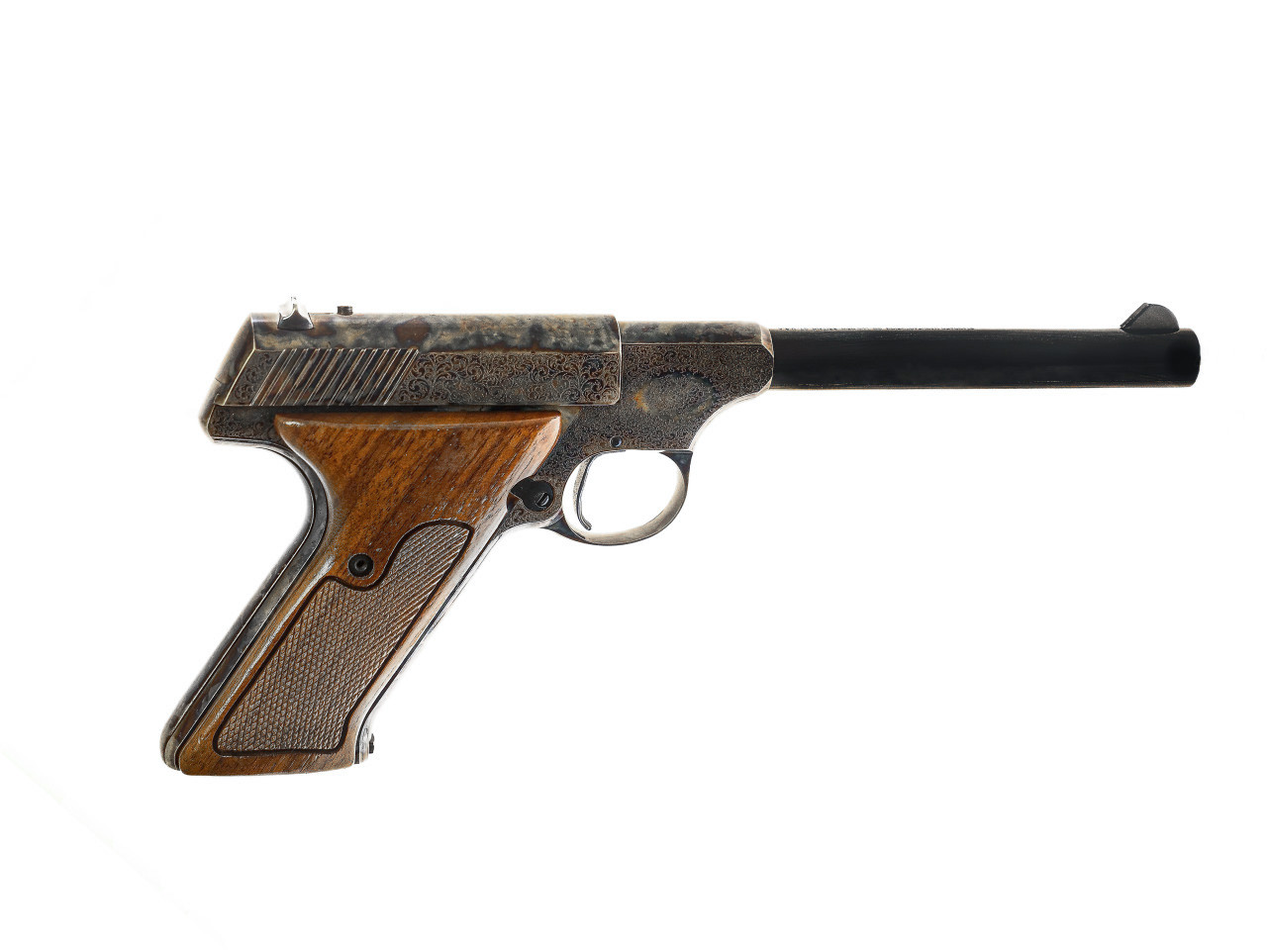pistol: (151, 280, 1216, 787)
